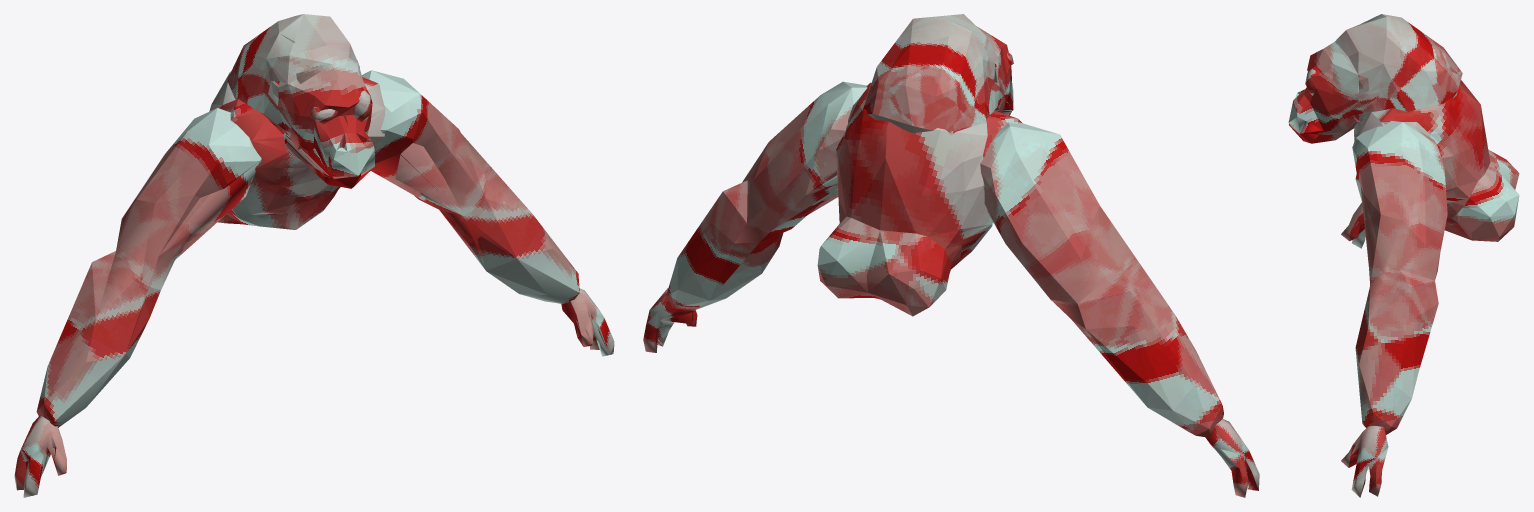
File: item_squishy_gold_edenzombie.glb
The picture shows the model from 3 angles, left to right: view 1: azimuth 30°, elevation 25°; view 2: azimuth 150°, elevation 25°; view 3: azimuth 270°, elevation 25°; orthographic projection. The views are drawn at different scales.
Visible parts, largest first — view 1: toy_edenzombie; view 2: toy_edenzombie; view 3: toy_edenzombie.
Part boxes in pixels (x1,y1,x2,y2): toy_edenzombie: [14, 14, 614, 497]; toy_edenzombie: [643, 14, 1259, 497]; toy_edenzombie: [1288, 14, 1519, 497].
Bounding box in the file's own units: 0.157 × 0.1021 × 0.0603.
1 material, 1 textured.
